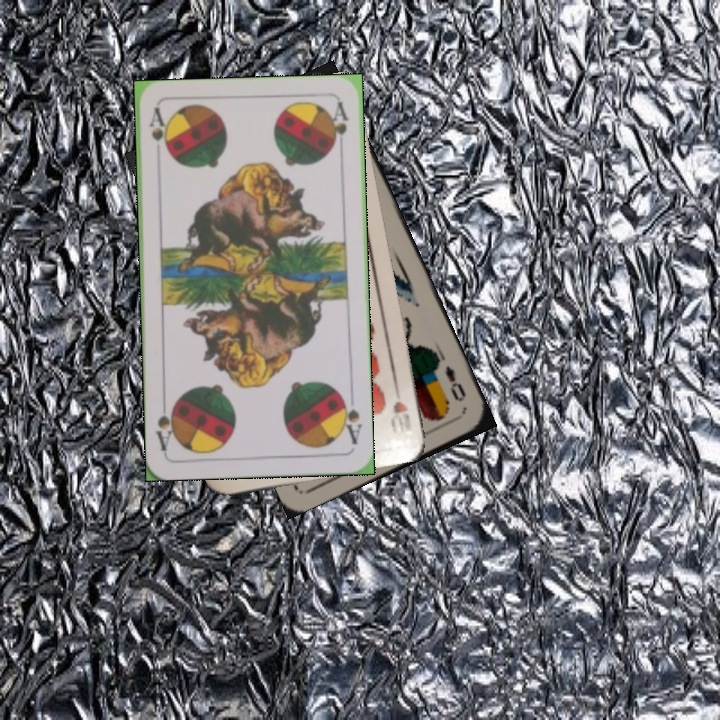EO: (441, 361, 469, 405)
H10: (389, 379, 414, 435)
SA: (336, 389, 364, 447), (145, 105, 170, 156)
